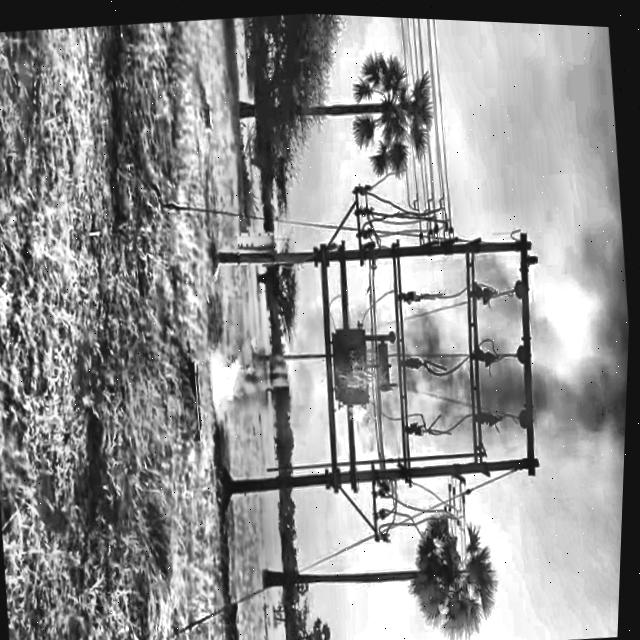Fire: (332, 335, 400, 426), (197, 330, 264, 420)
